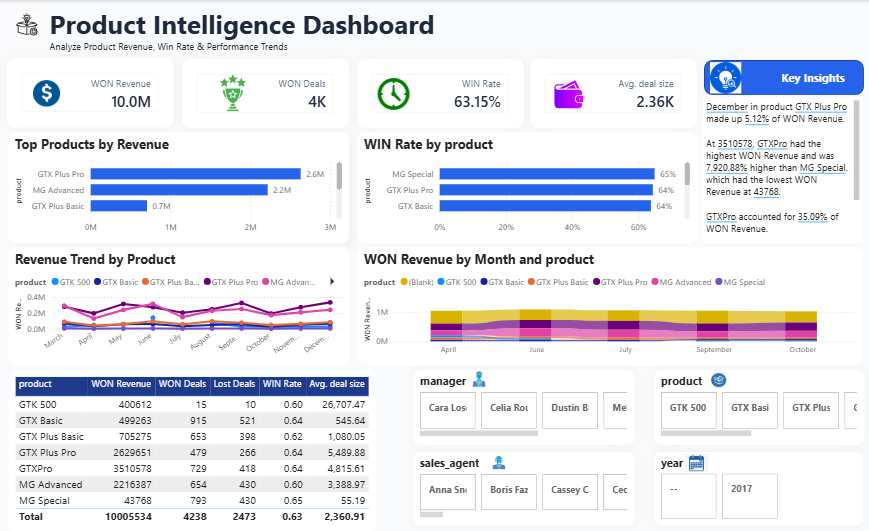

Layout of this report page (visuals, bound fields, positions):
{"tool":"powerbi","page":{"name":"Product Intelligence","canvas":[1280,780],"ordinal":2},"visuals":[{"type":"textbox","box":[80.5,4.4,1198.5,93.7],"z":0},{"type":"cardVisual","fields":{"Data":["Measures (2).WON Revenue"]},"box":[24.5,83.5,240,100],"z":1000},{"type":"cardVisual","fields":{"Data":["Measures (2).WON Deals"]},"box":[276.3,84.9,240.3,99.3],"z":2000},{"type":"cardVisual","fields":{"Data":["Measures (2).WIN Rate"]},"box":[528.2,84.9,240.3,99.3],"z":3000},{"type":"cardVisual","fields":{"Data":["Measures (2).Avg. deal size"]},"box":[777.1,84.9,240.3,99.3],"z":4000},{"type":"image","box":[61.5,112.1,38.6,44.3],"z":5000},{"type":"image","box":[319.5,107.9,60.4,51.8],"z":6000},{"type":"image","box":[801.6,112.3,63.3,47.5],"z":7000},{"type":"clusteredBarChart","title":"Top Products by Revenue","fields":{"Category":["Products.product"],"Y":["Measures (2).WON Revenue"]},"box":[25.9,190,490.7,159.7],"z":8000},{"type":"clusteredBarChart","fields":{"Category":["Sales Pipeline.product"],"Y":["Measures (2).WIN Rate"]},"box":[528.2,190,489.3,159.7],"z":9000},{"type":"lineChart","title":"Revenue Trend by Product","fields":{"Series":["Products.product"],"Y":["Measures (2).WON Revenue"],"Category":["date.month"]},"box":[25.9,355.5,490.7,169.8],"z":10000},{"type":"tableEx","fields":{"Values":["Sales Pipeline.product","Measures (2).WON Revenue","Measures (2).WON Deals","Measures (2).Lost Deals","Measures (2).WIN Rate","Measures (2).Avg. deal size"]},"box":[25.4,532.7,529.5,233],"z":11000},{"type":"advancedSlicerVisual","fields":{"Values":["Sales Team.manager"]},"box":[608.8,532.7,318.7,107.8],"z":12000},{"type":"advancedSlicerVisual","fields":{"Values":["Sales Pipeline.sales_agent"]},"box":[608.8,650,318.7,106.2],"z":13000},{"type":"advancedSlicerVisual","fields":{"Values":["Products.product"]},"box":[956,532.7,302.8,107.8],"z":14000},{"type":"advancedSlicerVisual","fields":{"Values":["date.year"]},"box":[956,650,301.2,106.2],"z":15000},{"type":"image","box":[688,532,32,26],"z":16000},{"type":"image","box":[715.8,655.3,34.2,22.4],"z":17000},{"type":"image","box":[1030.3,532.9,36.8,28.9],"z":18000},{"type":"image","box":[998.8,653.5,36.6,26],"z":19000},{"type":"shape","box":[1027.5,86.3,230.3,50.4],"z":20000},{"type":"image","box":[1035.5,83,45,56.5],"z":21000},{"type":"image","box":[24.5,18.7,56.1,33.1],"z":22000},{"type":"ribbonChart","fields":{"Y":["Measures (2).WON Revenue"],"Category":["Sales Pipeline.engage_date.Variation.Date Hierarchy.Month"],"Series":["Products.product"]},"box":[528.2,355.5,728.2,169.8],"z":23000},{"type":"textbox","box":[1026.4,139.4,230.1,210],"z":24000},{"type":"image","box":[549.7,112.3,61.9,46.1],"z":25000}]}

Visuals, with their boxes in screenshot pixels (x1, y1, x2, y2), scaled from the page's 1280x780 canvas onto the 869x531 screenshot:
textbox: <region>55, 3, 868, 67</region>
cardVisual - Measures (2).WON Revenue: <region>17, 57, 180, 125</region>
cardVisual - Measures (2).WON Deals: <region>188, 58, 351, 125</region>
cardVisual - Measures (2).WIN Rate: <region>359, 58, 522, 125</region>
cardVisual - Measures (2).Avg. deal size: <region>528, 58, 691, 125</region>
image: <region>42, 76, 68, 106</region>
image: <region>217, 73, 258, 109</region>
image: <region>544, 76, 587, 109</region>
"Top Products by Revenue" clusteredBarChart: <region>18, 129, 351, 238</region>
clusteredBarChart - Sales Pipeline.product x Measures (2).WIN Rate: <region>359, 129, 691, 238</region>
"Revenue Trend by Product" lineChart: <region>18, 242, 351, 358</region>
tableEx - Sales Pipeline.product x Measures (2).WON Revenue: <region>17, 363, 377, 521</region>
advancedSlicerVisual - Sales Team.manager: <region>413, 363, 630, 436</region>
advancedSlicerVisual - Sales Pipeline.sales_agent: <region>413, 442, 630, 515</region>
advancedSlicerVisual - Products.product: <region>649, 363, 855, 436</region>
advancedSlicerVisual - date.year: <region>649, 442, 854, 515</region>
image: <region>467, 362, 489, 380</region>
image: <region>486, 446, 509, 461</region>
image: <region>699, 363, 724, 382</region>
image: <region>678, 445, 703, 463</region>
shape: <region>698, 59, 854, 93</region>
image: <region>703, 57, 734, 95</region>
image: <region>17, 13, 55, 35</region>
ribbonChart - Measures (2).WON Revenue x Sales Pipeline.engage_date.Variation.Date Hierarchy.Month: <region>359, 242, 853, 358</region>
textbox: <region>697, 95, 853, 238</region>
image: <region>373, 76, 415, 108</region>
